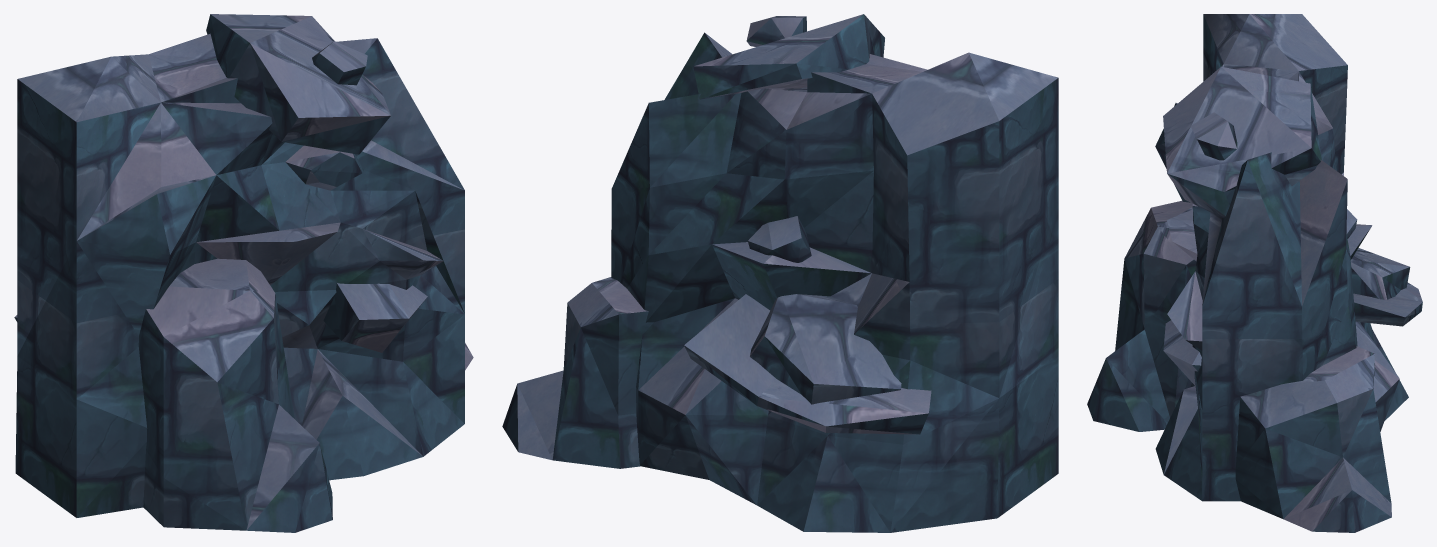
The model's file is rubble_half.gltf.
The picture shows the model from 3 angles, left to right: view 1: azimuth 30°, elevation 25°; view 2: azimuth 150°, elevation 25°; view 3: azimuth 270°, elevation 25°; orthographic projection. The views are drawn at different scales.
Visible parts, largest first — view 1: rubble_half; view 2: rubble_half; view 3: rubble_half.
Part boxes in pixels (<box>): rubble_half: <box>14,14,473,532</box>; rubble_half: <box>502,14,1058,532</box>; rubble_half: <box>1087,14,1422,532</box>.
Size of the model in its own units: 4 by 3.5 by 3.
Materials: 2 (2 with a texture image).
